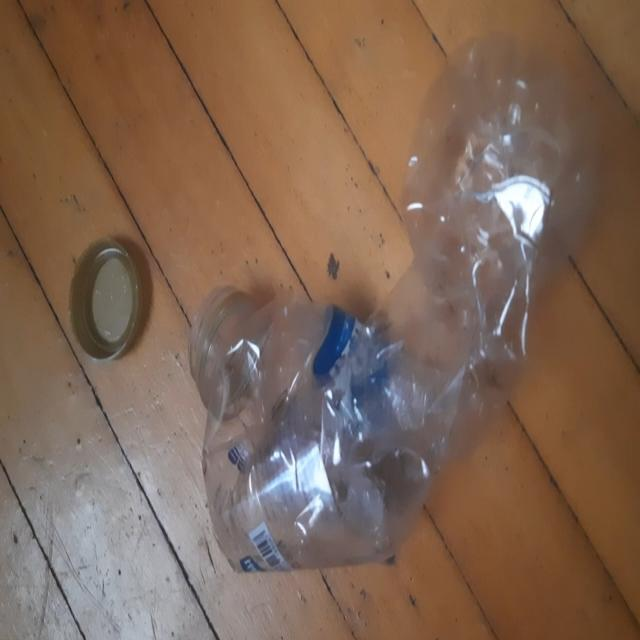Plastic: (195, 31, 596, 573), (70, 239, 152, 364)
